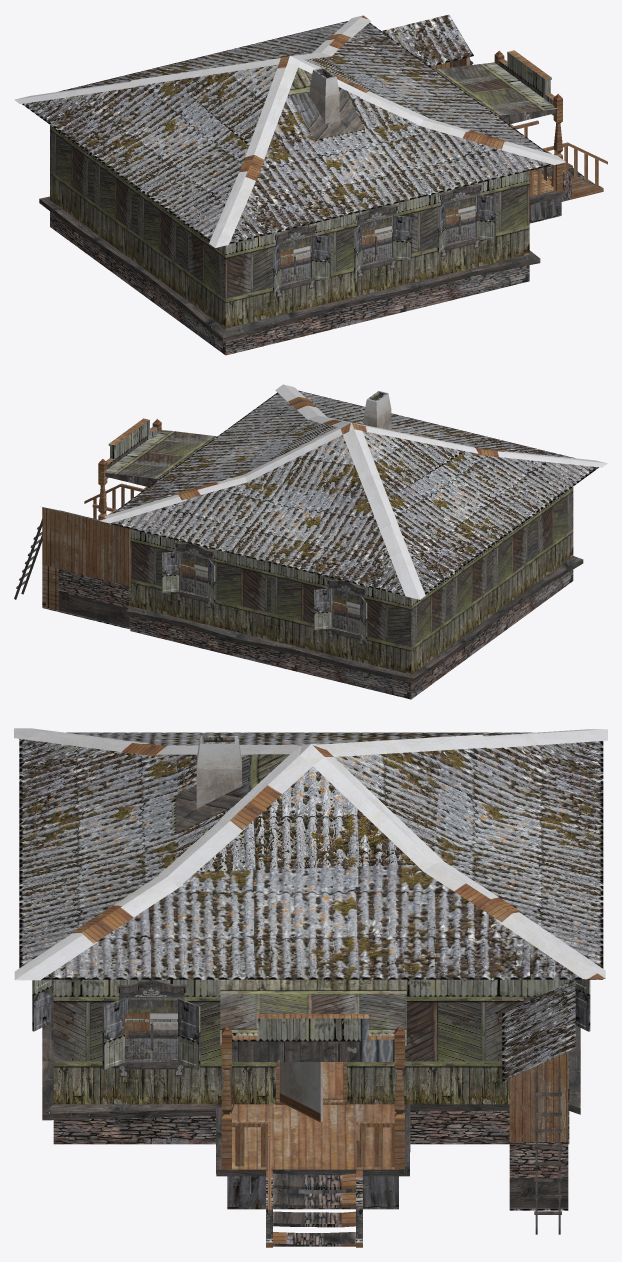
Rendered from pfz.fbx.
The picture shows the model from 3 angles, top to bottom: view 1: azimuth 30°, elevation 25°; view 2: azimuth 150°, elevation 25°; view 3: azimuth 270°, elevation 25°; orthographic projection. The views are drawn at different scales.
Visible parts, largest first — view 1: Obj3d66-503198-1-323; view 2: Obj3d66-503198-1-323; view 3: Obj3d66-503198-1-323.
Part boxes in pixels (x1,y1,x2,y2): Obj3d66-503198-1-323: (14,14,607,355); Obj3d66-503198-1-323: (14,384,607,699); Obj3d66-503198-1-323: (14,728,607,1247).
Bounding box in the file's own units: 22.9 × 9.27 × 16.75.
